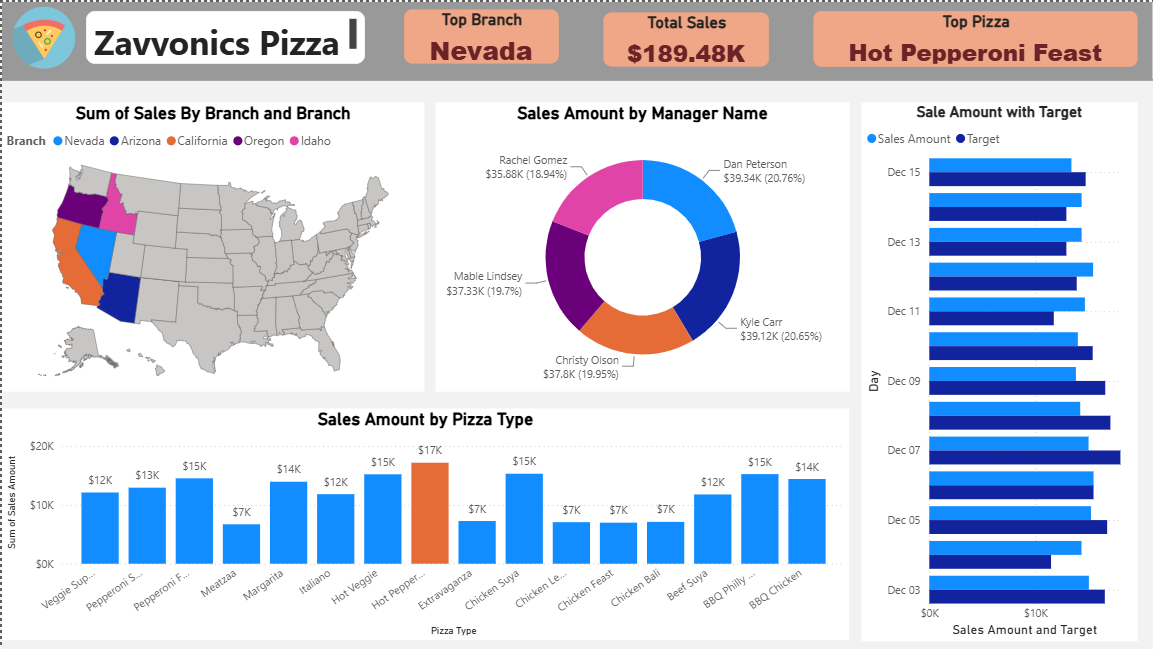

This screenshot's page, from the dashboard's own definition file:
{"tool":"powerbi","page":{"name":"Main Dashboard","canvas":[1280,720],"ordinal":0},"visuals":[{"type":"shape","box":[0,0,1279.4,87.3],"z":0},{"type":"shape","box":[0,78.6,1280,16.1],"z":1000},{"type":"textbox","box":[93.7,9.5,309.9,58.7],"z":2000},{"type":"image","box":[0,0,93.2,79],"z":3000},{"type":"shapeMap","title":"Sum of Sales By Branch and Branch","fields":{"Category":["Branch Data.Branch"],"Series":["Branch Data.Branch"],"Value":["Sum(Sales.Sales Amount)"]},"box":[0,111.8,469.4,321.3],"z":4000},{"type":"donutChart","title":"Sales Amount by Manager Name","fields":{"Category":["Branch Data.Manager Name"],"Y":["Sum(Sales.Sales Amount)"]},"box":[482,111.8,459.9,321.3],"z":5000},{"type":"columnChart","title":"Sales Amount by Pizza Type","fields":{"Category":["Sales.Pizza Type"],"Y":["Sum(Sales.Sales Amount)"]},"box":[0,452.4,941.3,257.1],"z":6000},{"type":"clusteredBarChart","title":"Sale Amount with Target","fields":{"Category":["Daily Target.Day"],"Y":["Sum(Sales.Sales Amount)","Sum(Daily Target.Target)"]},"box":[955.6,111.1,306.3,598.4],"z":7000},{"type":"cardVisual","title":"Top Branch","fields":{"Data":["Min(Sales.Branch)"]},"box":[447,9,172,60],"z":8000},{"type":"cardVisual","title":"Total Sales","fields":{"Data":["Sum(Sales.Sales Amount)"]},"box":[668.3,11.1,184.1,60.3],"z":9000},{"type":"cardVisual","title":"Top Pizza","fields":{"Data":["Min(Sales.Pizza Type)"]},"box":[901.6,9.5,360.3,61.9],"z":10000}]}

Visuals, with their boxes in screenshot pixels (x1, y1, x2, y2), scaled from the page's 1280x720 canvas onto the 1153x649 screenshot:
shape: (left=0, top=0, right=1152, bottom=79)
shape: (left=0, top=71, right=1152, bottom=85)
textbox: (left=84, top=9, right=364, bottom=61)
image: (left=0, top=0, right=84, bottom=71)
"Sum of Sales By Branch and Branch" shapeMap: (left=0, top=101, right=423, bottom=390)
"Sales Amount by Manager Name" donutChart: (left=434, top=101, right=848, bottom=390)
"Sales Amount by Pizza Type" columnChart: (left=0, top=408, right=848, bottom=640)
"Sale Amount with Target" clusteredBarChart: (left=861, top=100, right=1137, bottom=640)
"Top Branch" cardVisual: (left=403, top=8, right=558, bottom=62)
"Total Sales" cardVisual: (left=602, top=10, right=768, bottom=64)
"Top Pizza" cardVisual: (left=812, top=9, right=1137, bottom=64)
